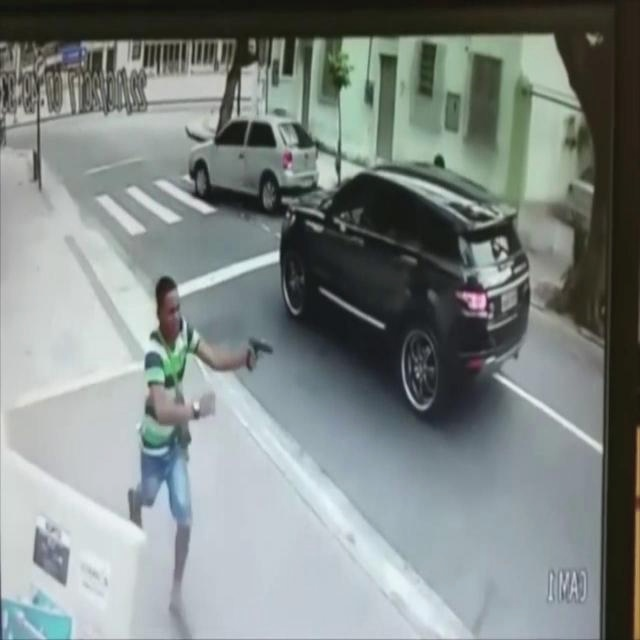gun: (242, 323, 278, 383)
